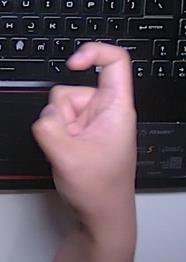anticlockwise: (28, 40, 141, 202)
